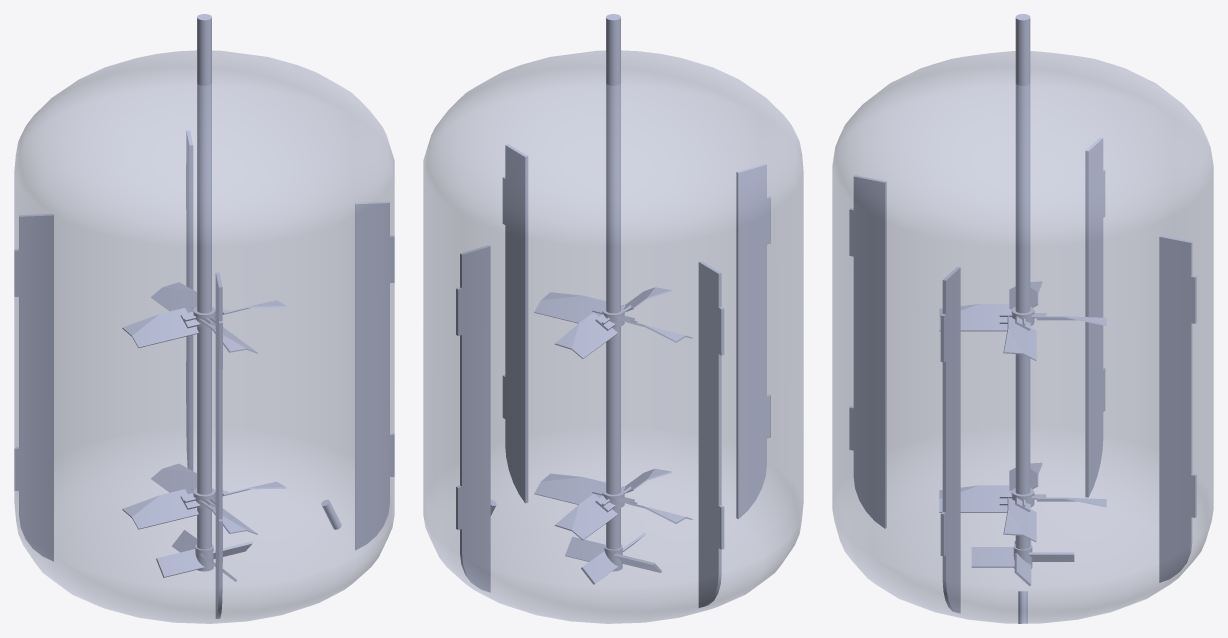
The picture shows the model from 3 angles, left to right: view 1: azimuth 30°, elevation 25°; view 2: azimuth 150°, elevation 25°; view 3: azimuth 270°, elevation 25°; orthographic projection.
Visible parts, largest first — view 1: Tank, Baffles, Impeller; view 2: Tank, Baffles, Impeller; view 3: Tank, Baffles, Impeller.
Part boxes in pixels (x1,y1,x2,y2): Tank: [14, 50, 394, 623]; Baffles: [14, 130, 394, 618]; Impeller: [122, 14, 286, 581]; Tank: [423, 50, 803, 623]; Baffles: [456, 144, 770, 607]; Impeller: [534, 14, 692, 584]; Tank: [832, 51, 1213, 623]; Baffles: [849, 137, 1196, 613]; Impeller: [939, 14, 1106, 586].
Size of the model in its own units: 0.82 by 1.36 by 0.82.
